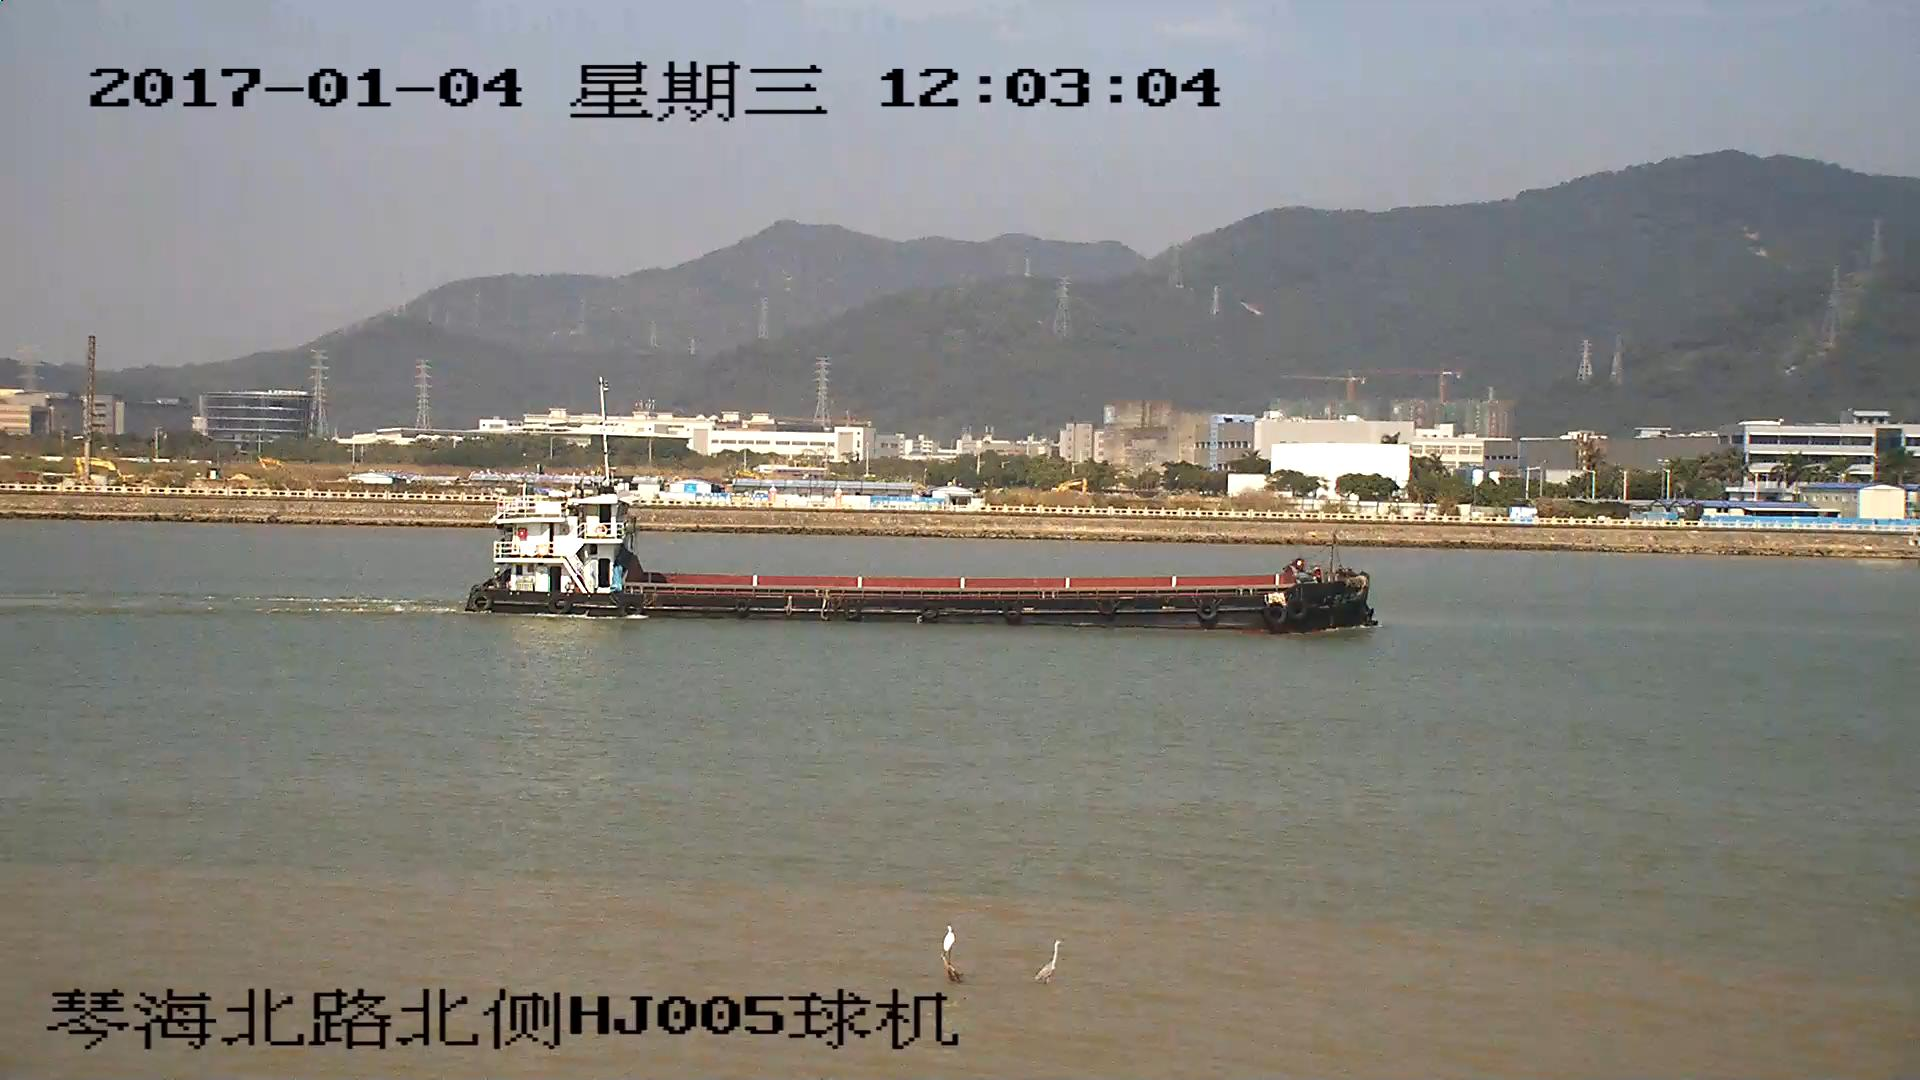general cargo ship: (465, 492, 1378, 637)
